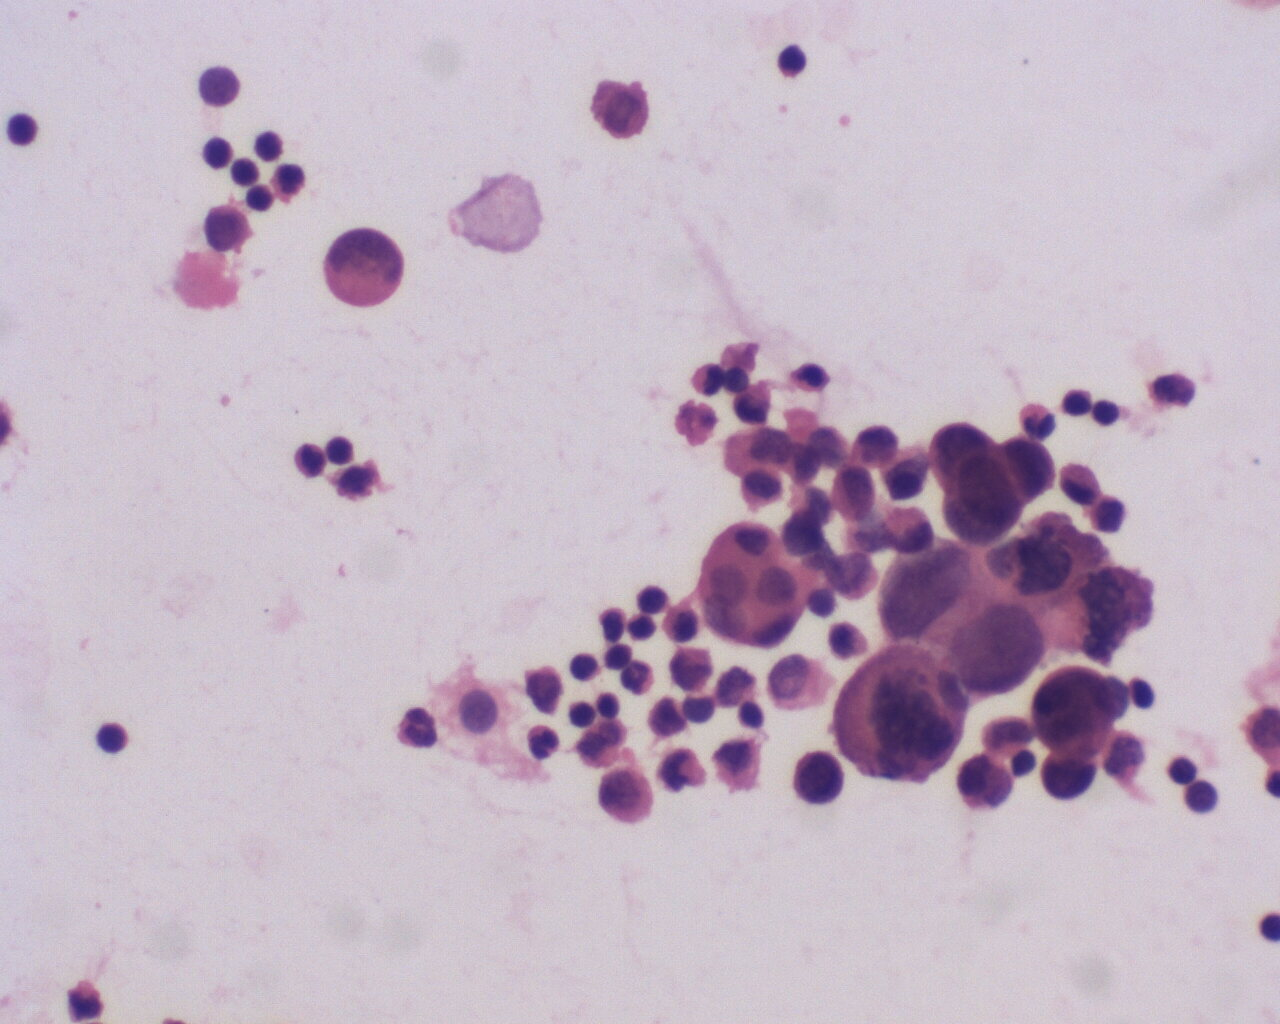ab: (832, 639, 965, 788), (945, 595, 1045, 702), (1033, 662, 1127, 763), (937, 451, 1027, 546), (317, 222, 408, 312), (594, 763, 654, 827), (791, 745, 850, 807), (954, 754, 1015, 812), (827, 463, 878, 527)
lymph: (4, 107, 45, 155), (91, 719, 138, 759), (771, 38, 811, 84), (201, 132, 237, 172), (1163, 752, 1202, 788), (638, 578, 674, 613), (1089, 393, 1121, 429)
neutro: (394, 704, 439, 749), (523, 722, 566, 766), (615, 660, 657, 694)
